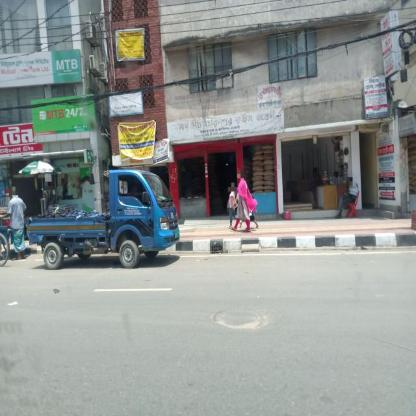truck: (24, 168, 180, 266)
